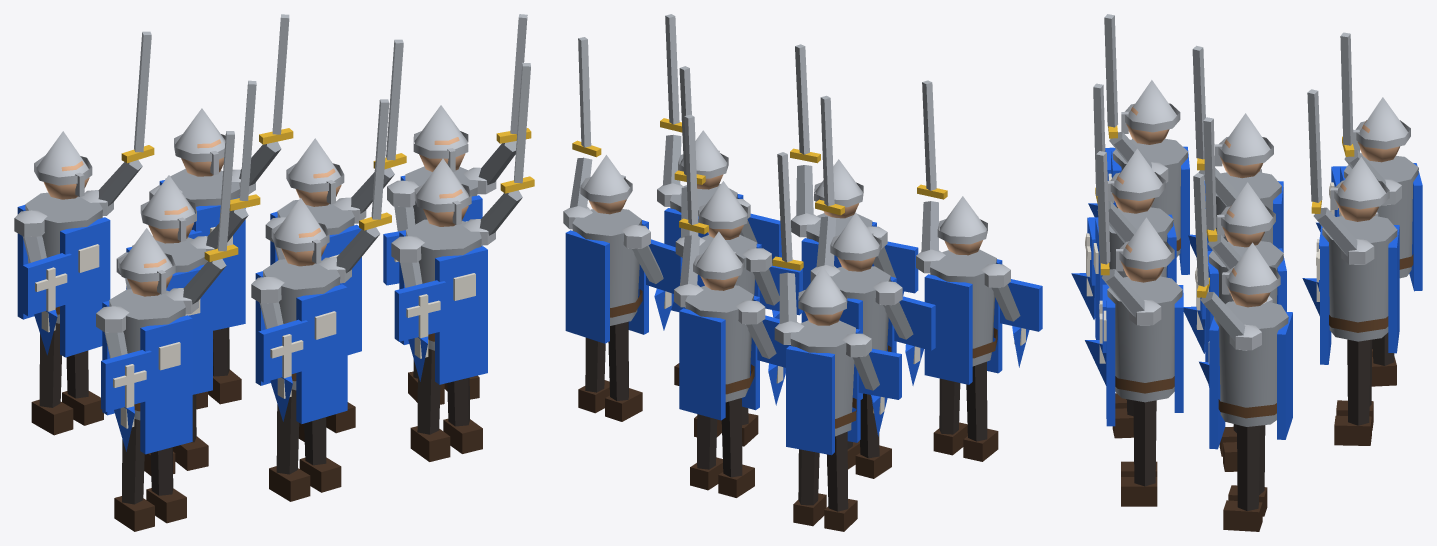
Rendered from squad_dl3_blue.glb.
3 renders of one model, left to right at view 1: azimuth 30°, elevation 25°; view 2: azimuth 150°, elevation 25°; view 3: azimuth 270°, elevation 25°, orthographic. The views are drawn at different scales.
Parts seen in each view (by area): view 1: squad_dl3_blue; view 2: squad_dl3_blue; view 3: squad_dl3_blue.
Part boxes in pixels (bbox=[...]): squad_dl3_blue: bbox=[14, 14, 534, 531]; squad_dl3_blue: bbox=[563, 14, 1042, 531]; squad_dl3_blue: bbox=[1071, 14, 1422, 531].
Bounding box in the file's own units: 0.6888 × 0.5323 × 0.4594.
Materials: 1 (1 with a texture image).
